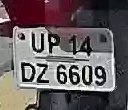0: (80, 63, 93, 87)
1: (66, 32, 80, 57)
4: (78, 34, 95, 59)
6: (68, 63, 81, 86), (55, 61, 66, 86)
9: (93, 64, 107, 88)
D: (20, 59, 36, 83)
P: (46, 32, 61, 56)
U: (29, 29, 44, 53)
Z: (35, 60, 50, 86)
